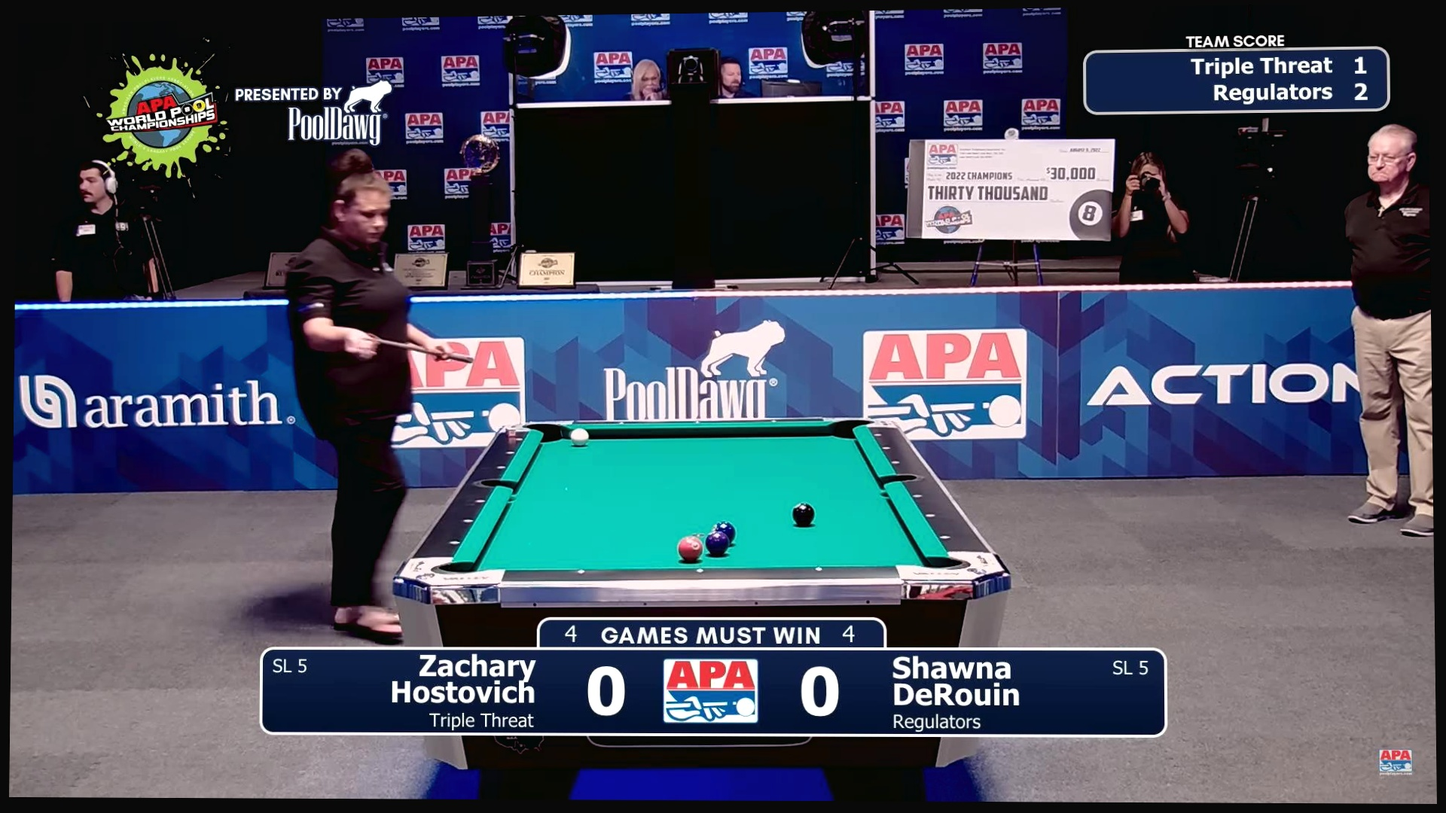Black: (792, 503, 814, 527)
Cue: (571, 428, 590, 446)
Solid: (463, 516, 474, 524), (475, 497, 486, 505), (495, 463, 506, 471), (504, 448, 515, 456), (513, 435, 524, 443), (616, 419, 627, 427), (692, 418, 703, 426), (768, 417, 779, 425), (872, 431, 883, 439), (924, 512, 935, 520), (813, 565, 824, 573), (890, 458, 900, 466), (912, 492, 922, 500), (940, 534, 950, 542), (576, 568, 586, 576), (450, 539, 460, 546), (881, 445, 891, 452), (694, 567, 704, 574)
Striped: (678, 536, 703, 562), (705, 531, 730, 556), (713, 520, 736, 545)
